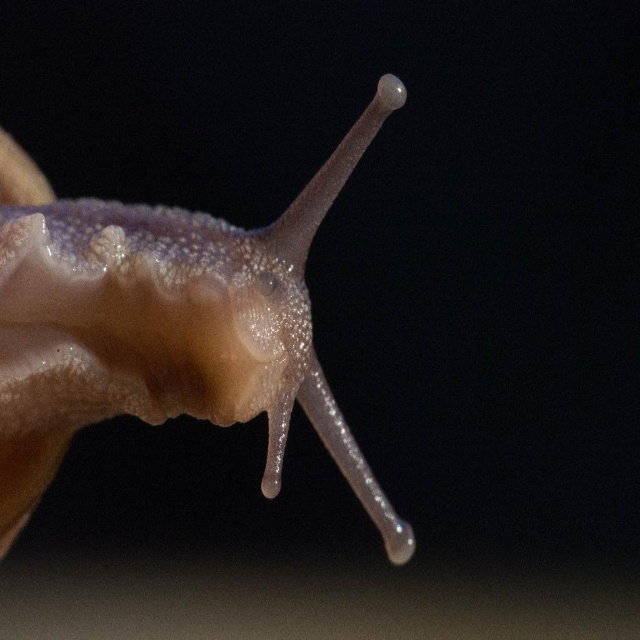Snail: (0, 71, 421, 564)
